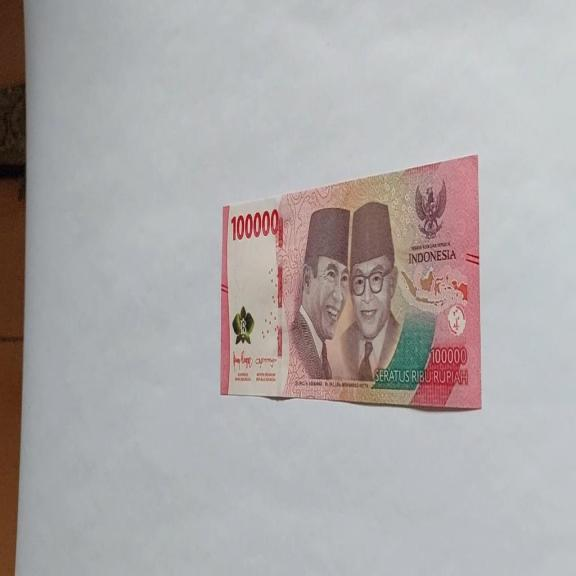Kertas: (219, 153, 482, 411), (230, 207, 280, 242)
